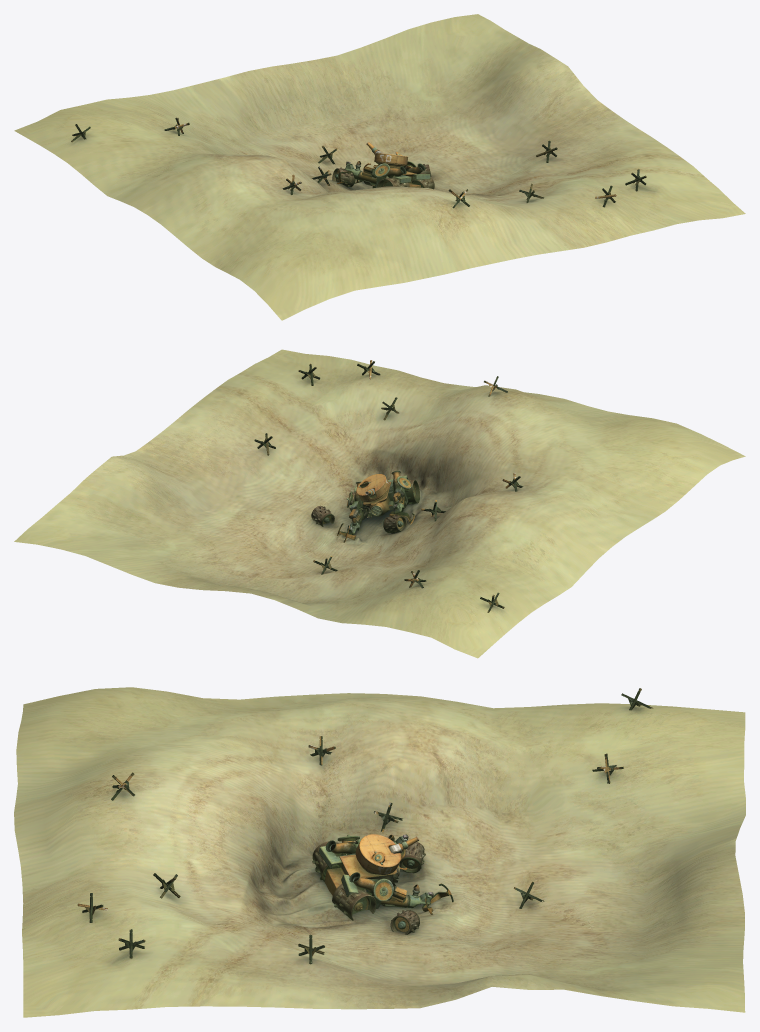
Rendered from TankScene.gltf.
3 renders of one model, top to bottom at view 1: azimuth 30°, elevation 25°; view 2: azimuth 150°, elevation 25°; view 3: azimuth 270°, elevation 25°, orthographic. The views are drawn at different scales.
Visible parts, largest first — view 1: Mesh_0134out, Mesh_0049out, Mesh_0047out, Mesh_0048out, Mesh_0046out; view 2: Mesh_0134out, Mesh_0049out, Mesh_0047out, Mesh_0048out, Mesh_0046out; view 3: Mesh_0134out, Mesh_0046out, Mesh_0048out, Mesh_0049out, Mesh_0047out.
Boxes of the visible parts, x1=… form: Mesh_0134out: x1=14, y1=14, x2=745, y2=320; Mesh_0049out: x1=71, y1=117, x2=646, y2=208; Mesh_0047out: x1=332, y1=161, x2=411, y2=188; Mesh_0048out: x1=364, y1=142, x2=420, y2=187; Mesh_0046out: x1=363, y1=161, x2=434, y2=189; Mesh_0134out: x1=14, y1=349, x2=745, y2=658; Mesh_0049out: x1=254, y1=360, x2=523, y2=612; Mesh_0047out: x1=383, y1=470, x2=419, y2=533; Mesh_0048out: x1=356, y1=474, x2=407, y2=519; Mesh_0046out: x1=311, y1=481, x2=365, y2=542; Mesh_0134out: x1=14, y1=687, x2=745, y2=1017; Mesh_0046out: x1=332, y1=872, x2=453, y2=934; Mesh_0048out: x1=324, y1=834, x2=418, y2=906; Mesh_0049out: x1=77, y1=688, x2=653, y2=964; Mesh_0047out: x1=312, y1=834, x2=425, y2=881.
Bounding box in the file's own units: 47.88 × 8.95 × 48.31.
9 materials, 9 textured.
